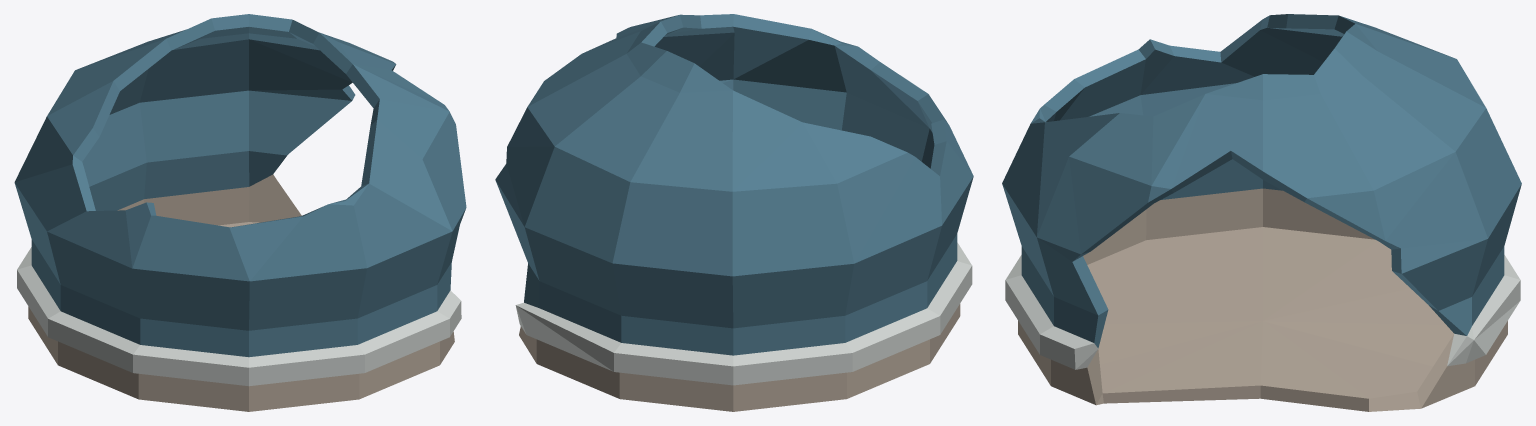
Rendered from SM_Bld_Roof_Cap_Destroyed_01.fbx.
The picture shows the model from 3 angles, left to right: view 1: azimuth 30°, elevation 25°; view 2: azimuth 150°, elevation 25°; view 3: azimuth 270°, elevation 25°; orthographic projection. The views are drawn at different scales.
Parts seen in each view (by area): view 1: SM_Bld_Roof_Cap_Destroyed_01; view 2: SM_Bld_Roof_Cap_Destroyed_01; view 3: SM_Bld_Roof_Cap_Destroyed_01.
Boxes of the visible parts, x1,y1,x2,y2 form: SM_Bld_Roof_Cap_Destroyed_01: (14, 14, 466, 411); SM_Bld_Roof_Cap_Destroyed_01: (495, 14, 973, 411); SM_Bld_Roof_Cap_Destroyed_01: (1002, 14, 1521, 411).
Size of the model in its own units: 555 by 391 by 606.
